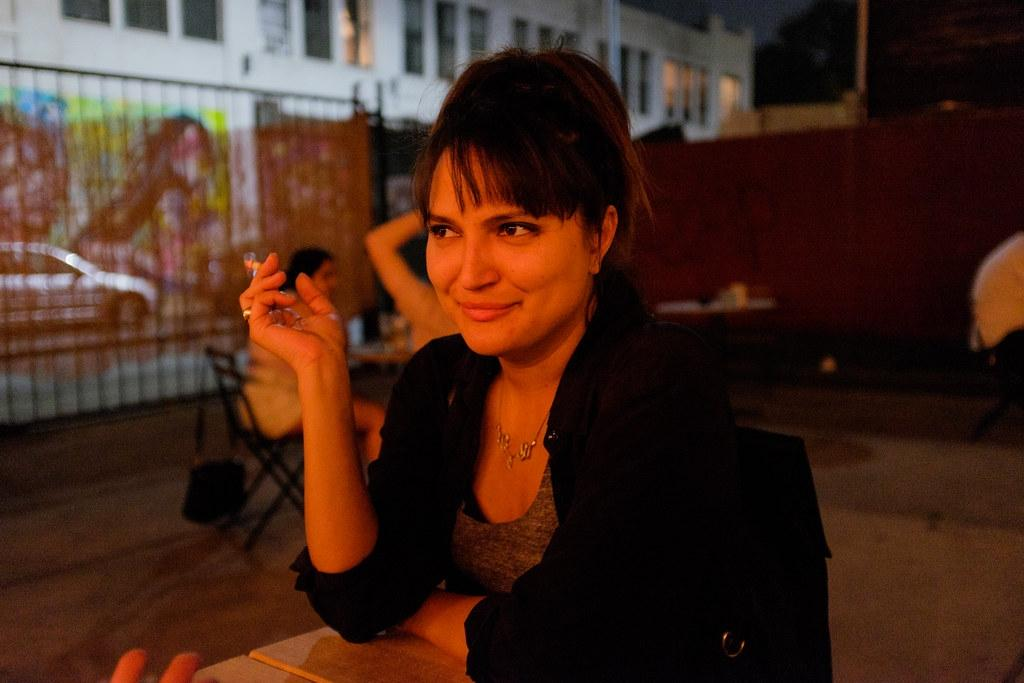cigarette: (242, 254, 265, 272)
